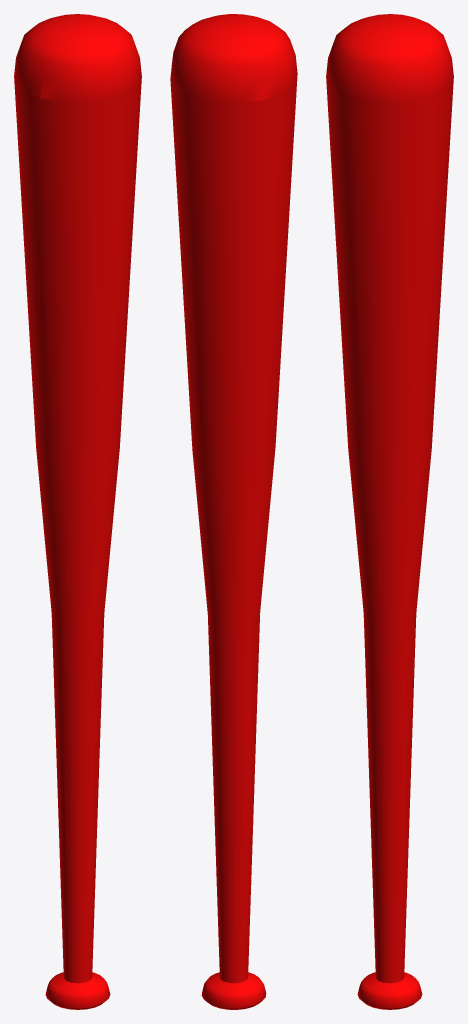
File: Bat.fbx
3 renders of one model, left to right at view 1: azimuth 90°, elevation 25°; view 2: azimuth 150°, elevation 25°; view 3: azimuth 270°, elevation 25°, orthographic.
Parts seen in each view (by area): view 1: Bat; view 2: Bat; view 3: Bat.
Part boxes in pixels (x1,y1,x2,y2): Bat: (14, 14, 141, 1009); Bat: (170, 14, 297, 1009); Bat: (326, 14, 453, 1009).
Size of the model in its own units: 16.19 by 136 by 16.19.
Materials: 1 (1 with a texture image).
